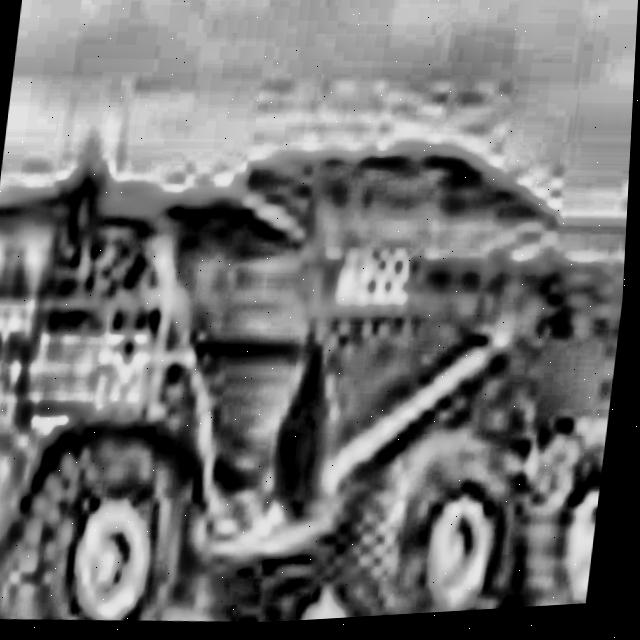dump_truck: (0, 62, 636, 640)
